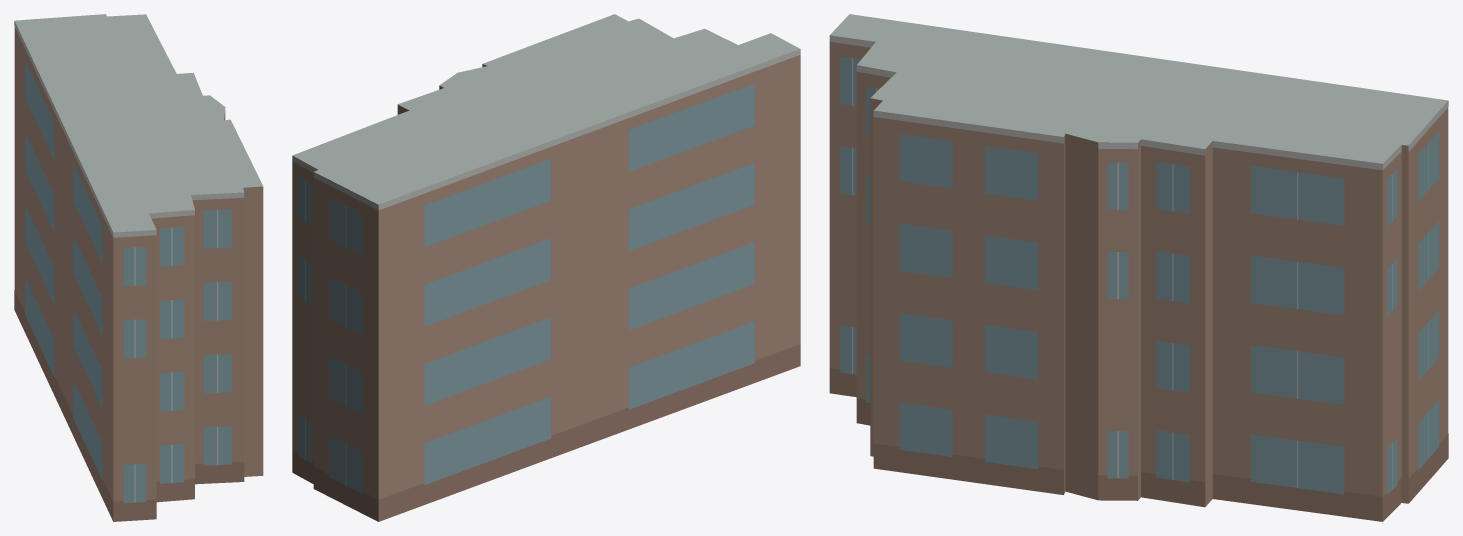
Rendered from survey-upis-32919076.glb.
The picture shows the model from 3 angles, left to right: view 1: azimuth 30°, elevation 25°; view 2: azimuth 150°, elevation 25°; view 3: azimuth 270°, elevation 25°; orthographic projection. The views are drawn at different scales.
Parts seen in each view (by area): view 1: survey-upis-32919076.tmp; view 2: survey-upis-32919076.tmp; view 3: survey-upis-32919076.tmp.
Part boxes in pixels (x1,y1,x2,y2): survey-upis-32919076.tmp: [14, 14, 263, 521]; survey-upis-32919076.tmp: [292, 14, 800, 521]; survey-upis-32919076.tmp: [829, 14, 1448, 521].
Size of the model in its own units: 12.13 by 13.5 by 21.16.
